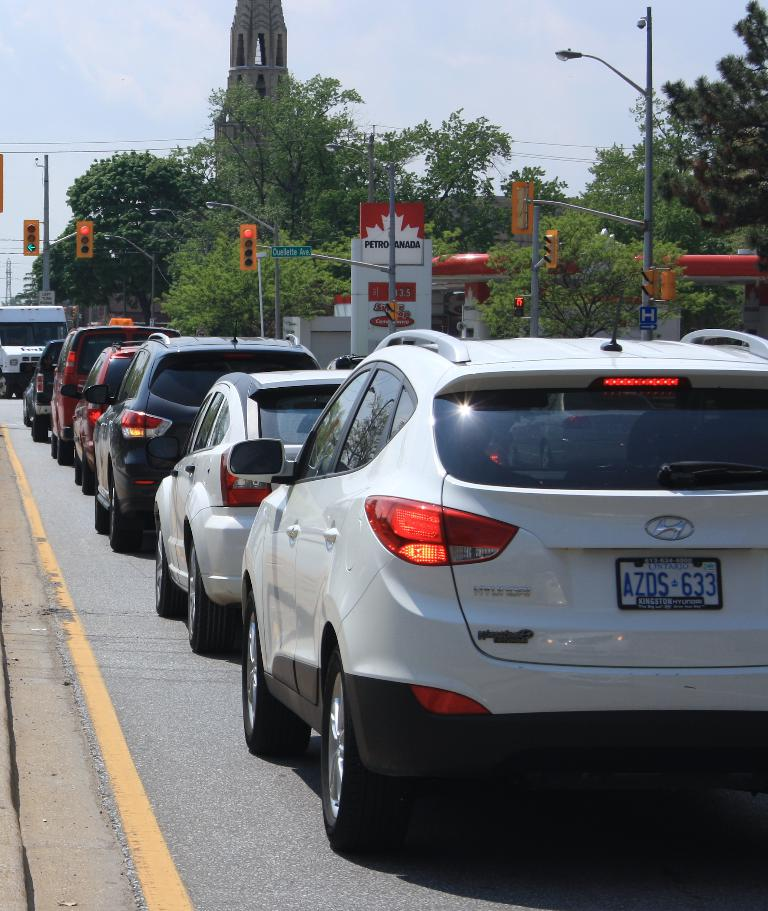Car: (18, 317, 767, 853)
